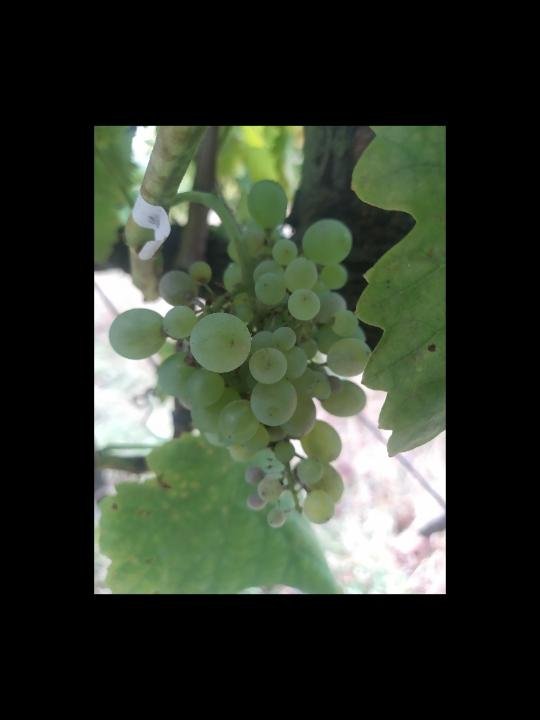grape: (107, 177, 375, 530)
